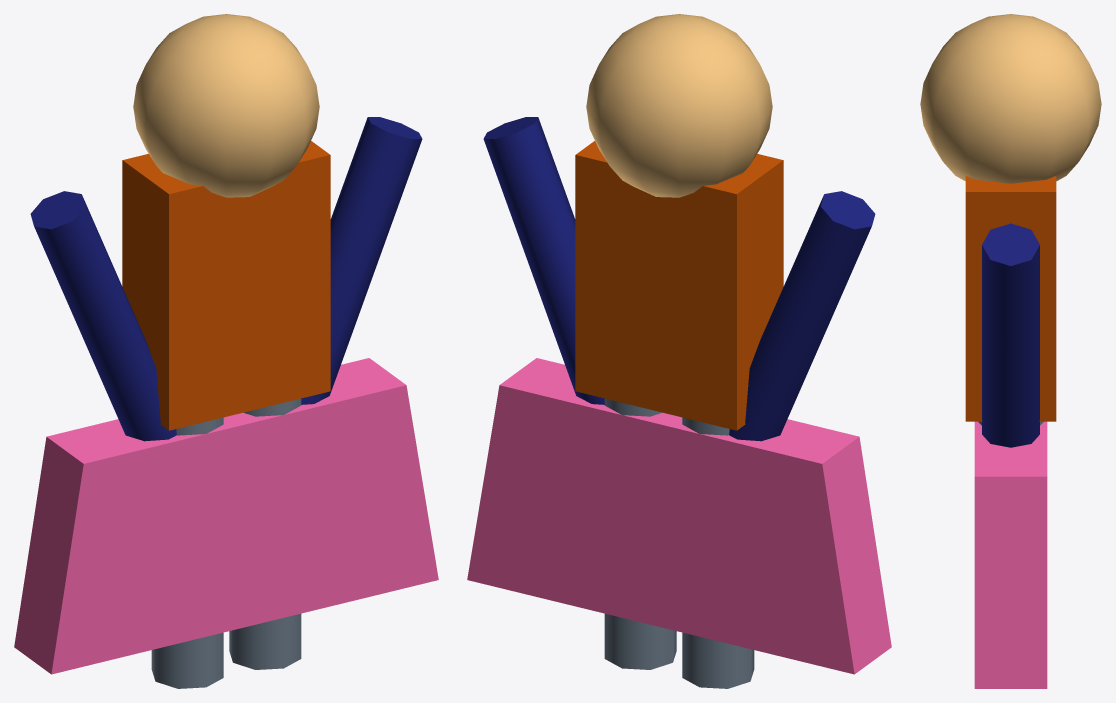
Rendered from pedestrian_poodle_skirt.glb.
3 renders of one model, left to right at view 1: azimuth 30°, elevation 25°; view 2: azimuth 150°, elevation 25°; view 3: azimuth 270°, elevation 25°, orthographic. The views are drawn at different scales.
Visible parts, largest first — view 1: pedestrian_1965; view 2: pedestrian_1965; view 3: pedestrian_1965.
Part boxes in pixels (box(x1,y1,x2,y2)): pedestrian_1965: box(14, 14, 438, 688); pedestrian_1965: box(467, 14, 891, 688); pedestrian_1965: box(920, 14, 1101, 688).
Bounding box in the file's own units: 1.2 × 1.9 × 0.5.
